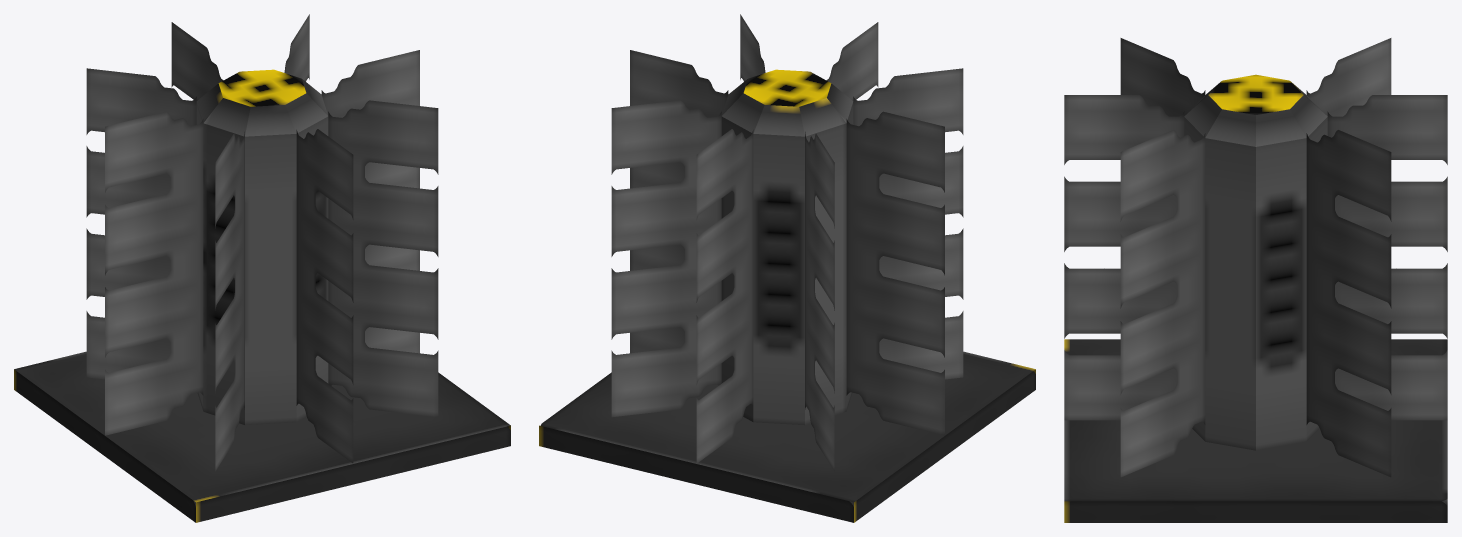
File: rtg_gen.obj
The picture shows the model from 3 angles, left to right: view 1: azimuth 30°, elevation 25°; view 2: azimuth 150°, elevation 25°; view 3: azimuth 270°, elevation 25°; orthographic projection. The views are drawn at different scales.
Parts seen in each view (by area): view 1: Gen; view 2: Gen; view 3: Gen.
Part boxes in pixels (x1,y1,x2,y2): Gen: (14,14,510,522); Gen: (539,14,1035,522); Gen: (1064,38,1447,522).
Bounding box in the file's own units: 1 × 1 × 1.
